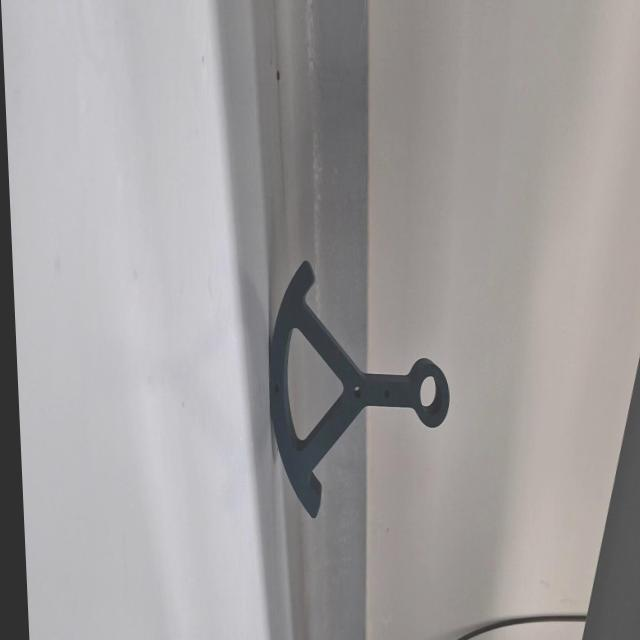haptic: (261, 258, 455, 520)
